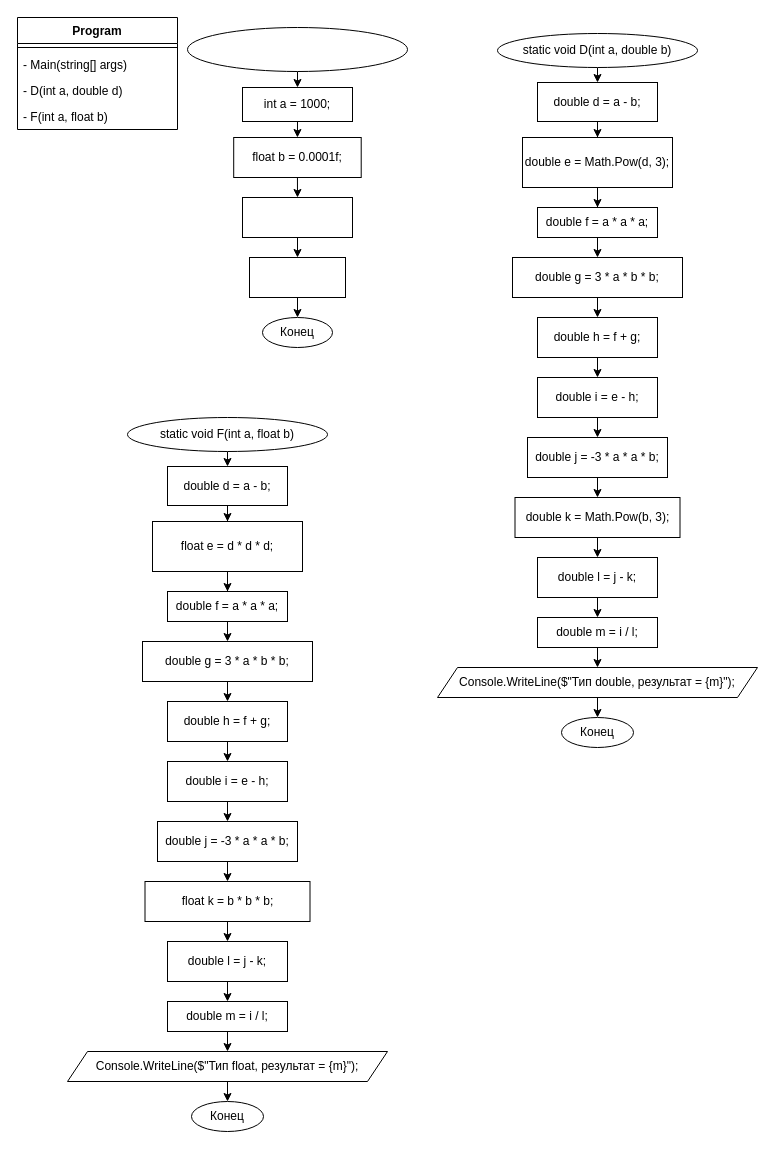
Image size: 775x1149. Some labels were removed from this diagram. The centre of each missing label's shape, as x and y in pixels:
"D(a, b);" belongs at [297,217].
"F(a, b);" belongs at [297,277].
"static void Main(string[] args)" belongs at [297,49].
